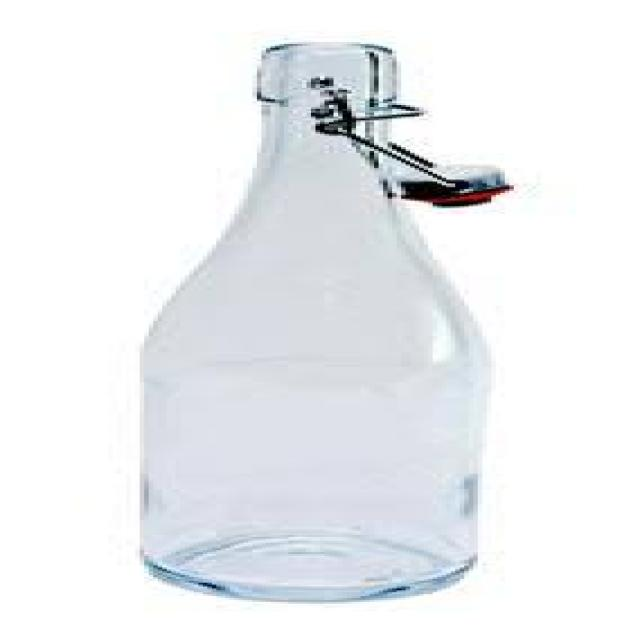Glass-Non-Biodegradable but Recyclable-: (127, 44, 492, 605)
